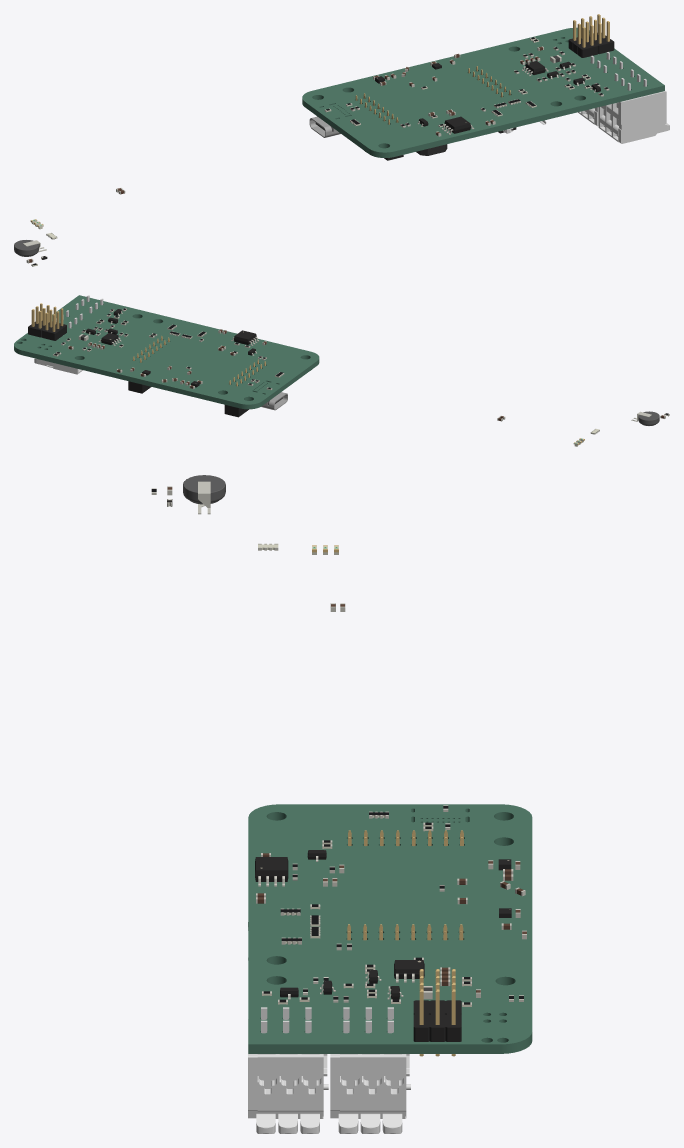
File: CERERE.glb
The picture shows the model from 3 angles, top to bottom: view 1: azimuth 30°, elevation 25°; view 2: azimuth 150°, elevation 25°; view 3: azimuth 270°, elevation 25°; orthographic projection. The views are drawn at different scales.
Parts seen in each view (by area): view 1: =>[0:1:1:20], J2, J9, J10, J3, BT1, U2; view 2: =>[0:1:1:20], J9, J10, J3, J6, J5, BT1, U2, USB1; view 3: =>[0:1:1:20], J3, J2, J10, BT1.
Boxes of the visible parts, x1,y1,x2,y2 form: =>[0:1:1:20]: (302,27,664,157); J2: (598,69,669,143); J9: (568,18,597,57); J10: (589,14,614,53); J3: (578,52,622,126); BT1: (14,240,46,256); U2: (441,116,474,134); =>[0:1:1:20]: (14,295,319,409); J9: (42,306,66,340); J10: (28,303,52,337); J3: (34,310,82,374); J6: (224,359,265,417); J5: (128,336,169,393); BT1: (631,411,659,425); U2: (231,330,258,345); USB1: (261,392,287,410); =>[0:1:1:20]: (248,804,532,1053); J3: (330,1007,410,1133); J2: (248,1007,328,1133); J10: (413,982,461,1056); BT1: (183,475,225,514).
Size of the model in its own units: 0.2105 by 0.0231 by 0.0603.
